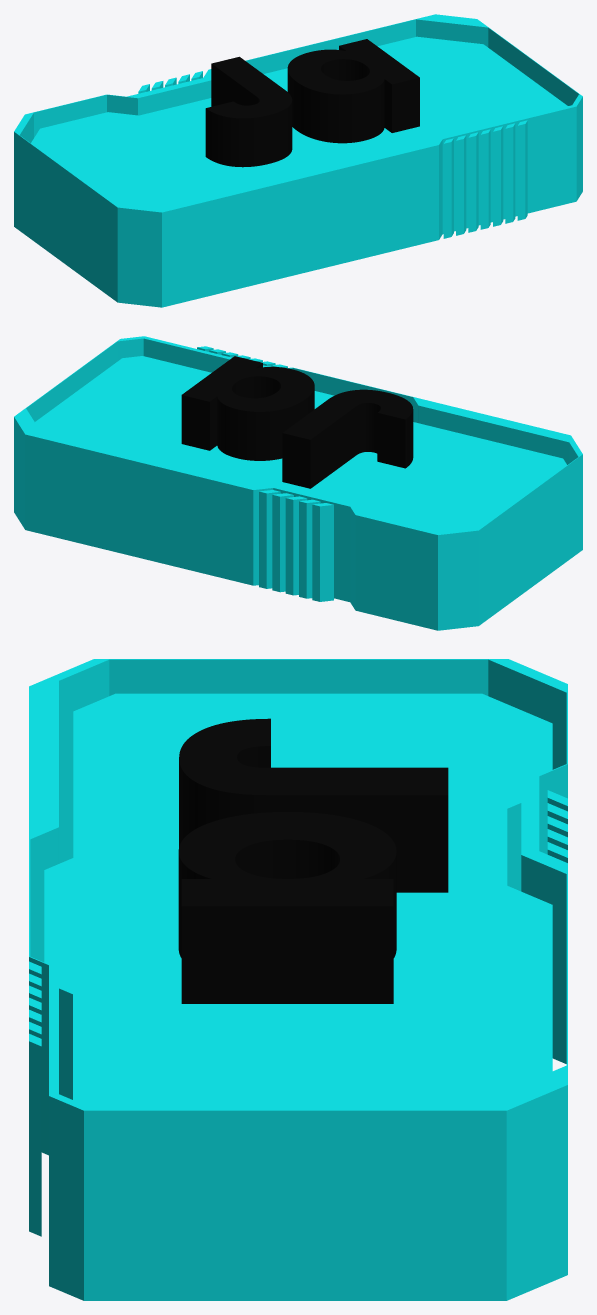
File: 16.HurufJa.glb
The picture shows the model from 3 angles, top to bottom: view 1: azimuth 30°, elevation 25°; view 2: azimuth 150°, elevation 25°; view 3: azimuth 270°, elevation 25°; orthographic projection. The views are drawn at different scales.
Parts seen in each view (by area): view 1: Curve.265, Curve.259, Curve.274, Curve.273, Curve.268, Curve.269, Curve.271, Curve.272, Curve.266, Curve.267, Curve.270; view 2: Curve.265, Curve.259, Curve.274, Curve.273, Curve.264, Curve.263, Curve.262, Curve.260, Curve.261; view 3: Curve.265, Curve.259, Curve.274, Curve.273, Curve.272.
Boxes of the visible parts, bbox=[...] form: Curve.265: bbox=[14, 14, 582, 307]; Curve.259: bbox=[31, 36, 567, 208]; Curve.274: bbox=[287, 39, 419, 143]; Curve.273: bbox=[205, 56, 292, 167]; Curve.268: bbox=[468, 132, 478, 232]; Curve.269: bbox=[480, 129, 490, 229]; Curve.271: bbox=[505, 123, 515, 223]; Curve.272: bbox=[517, 120, 527, 220]; Curve.266: bbox=[443, 138, 453, 238]; Curve.267: bbox=[456, 135, 466, 235]; Curve.270: bbox=[493, 126, 503, 226]; Curve.265: bbox=[14, 336, 582, 630]; Curve.259: bbox=[35, 356, 566, 532]; Curve.274: bbox=[181, 356, 314, 460]; Curve.273: bbox=[282, 389, 413, 488]; Curve.264: bbox=[312, 503, 333, 601]; Curve.263: bbox=[299, 499, 320, 598]; Curve.262: bbox=[285, 496, 307, 595]; Curve.260: bbox=[259, 490, 280, 588]; Curve.261: bbox=[272, 493, 293, 592]; Curve.265: bbox=[29, 659, 567, 1300]; Curve.259: bbox=[44, 693, 552, 1110]; Curve.274: bbox=[178, 812, 396, 1003]; Curve.273: bbox=[179, 718, 448, 892]; Curve.272: bbox=[29, 1033, 41, 1236].
Size of the model in its own units: 0.2966 by 0.0795 by 0.1496.
